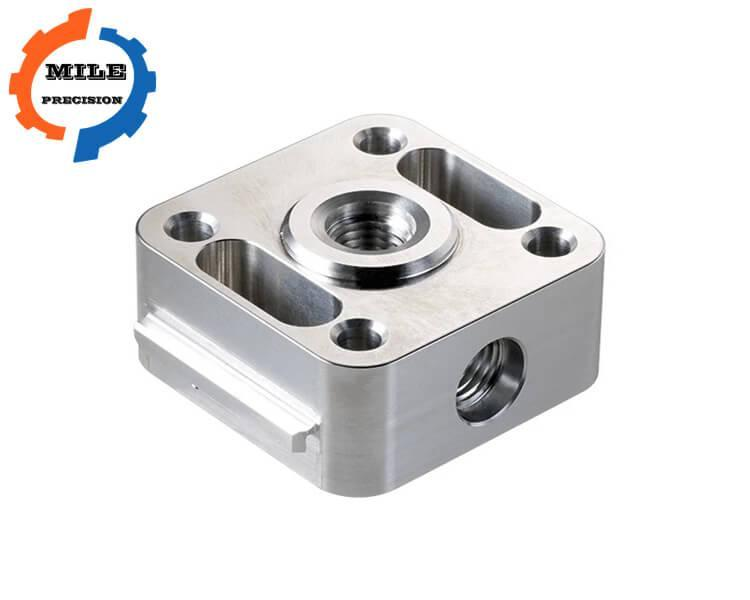hole: (164, 204, 219, 248), (520, 222, 576, 263), (328, 314, 384, 354), (351, 121, 410, 156)
